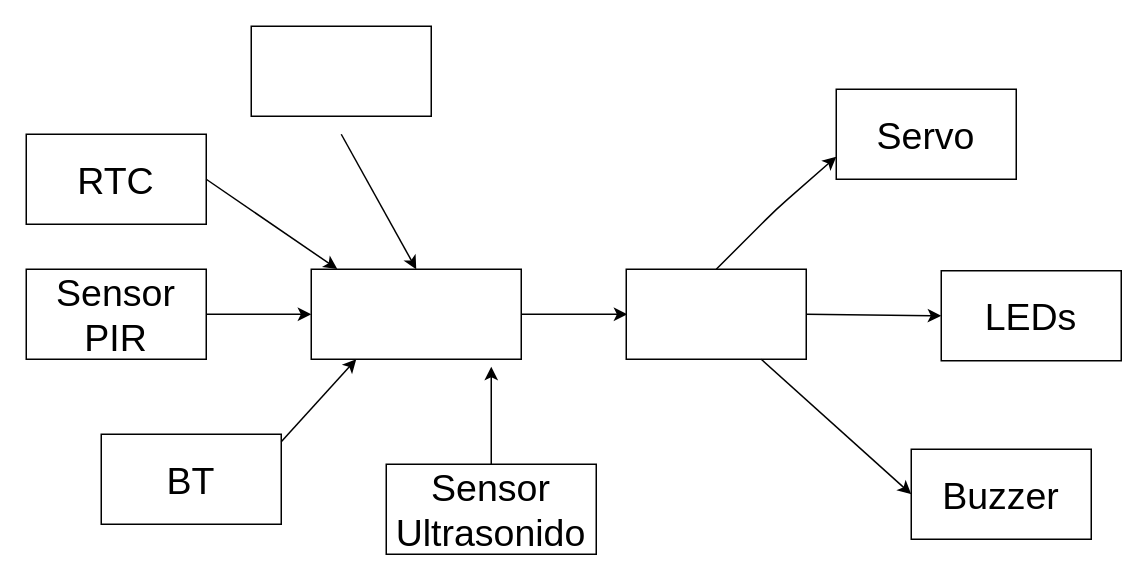
This 1148x581 diagram has some shape labels left out. Here are the shapes that lost their labels. From the top down, the centre of each, then its label:
At pixel 340 70: "Balanza de carga".
At pixel 415 313: "CONTROL".
At pixel 715 313: "Potencia".
